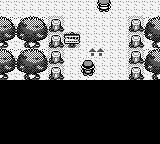leer: (64, 33, 80, 47)
main: (81, 61, 95, 76)
no-caminable: (1, 80, 159, 143), (1, 17, 47, 80), (49, 18, 64, 81), (145, 18, 160, 80), (129, 18, 144, 80)
npc: (96, 0, 111, 11)
